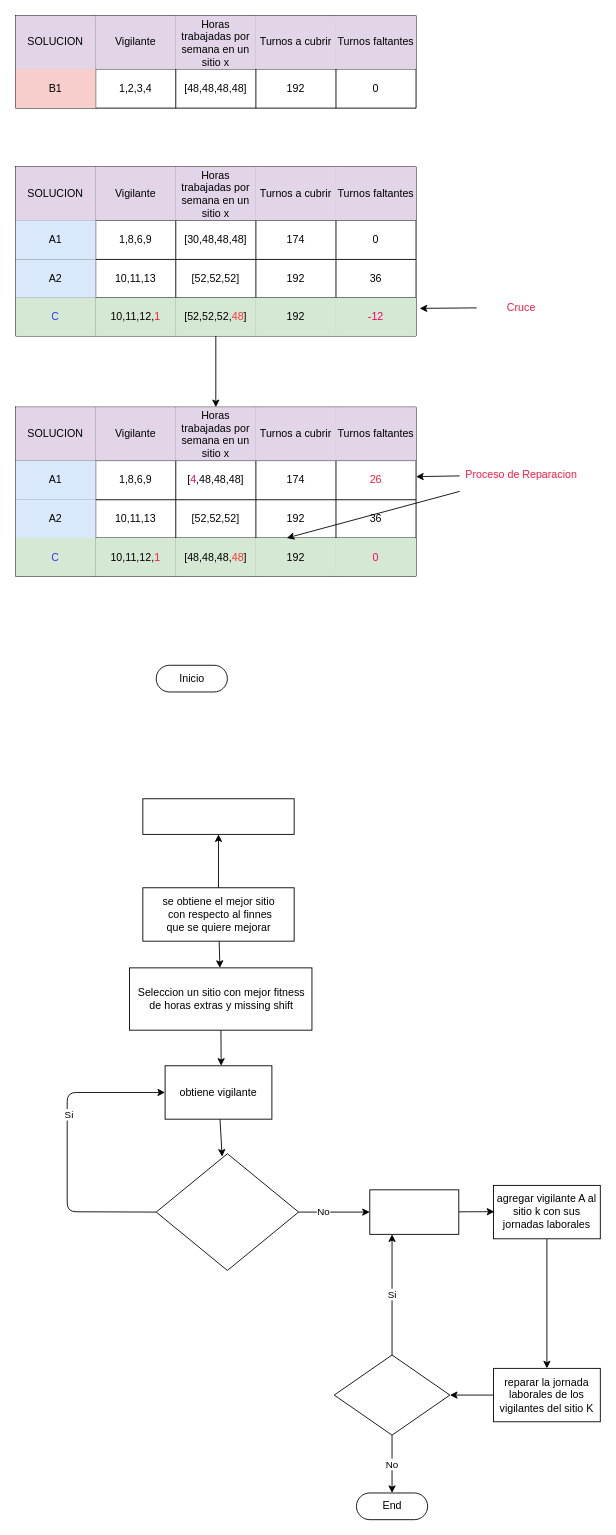
The diagram is 616 pixels wide and 1535 high, and some of its shapes have lost their labels. Here are the shapes that lost their labels. From the top down, the centre of each, then its label:
At (218,816): "se obtiene la poblacion".
At (227,1211): "vigilanate esta en el sitio a intercambiar ?".
At (414,1211): "obtiene sitio".
At (391,1394): "siguiente sitio del vigilante A!= Vacio".
